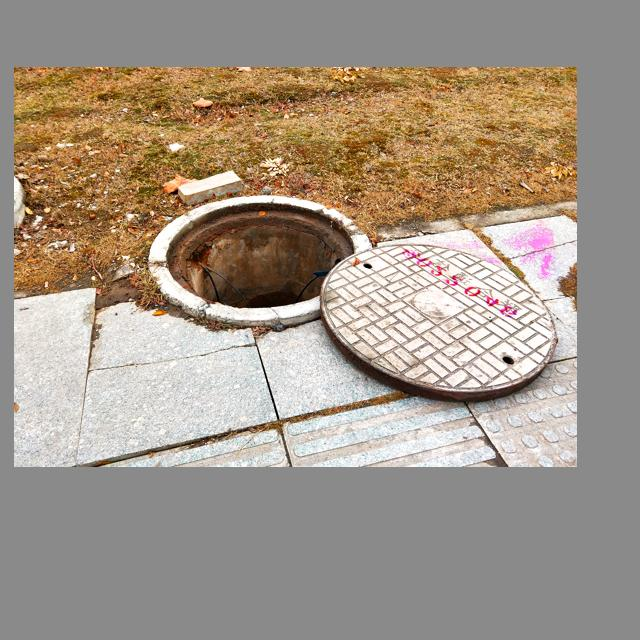uncovered: (148, 195, 558, 400)
